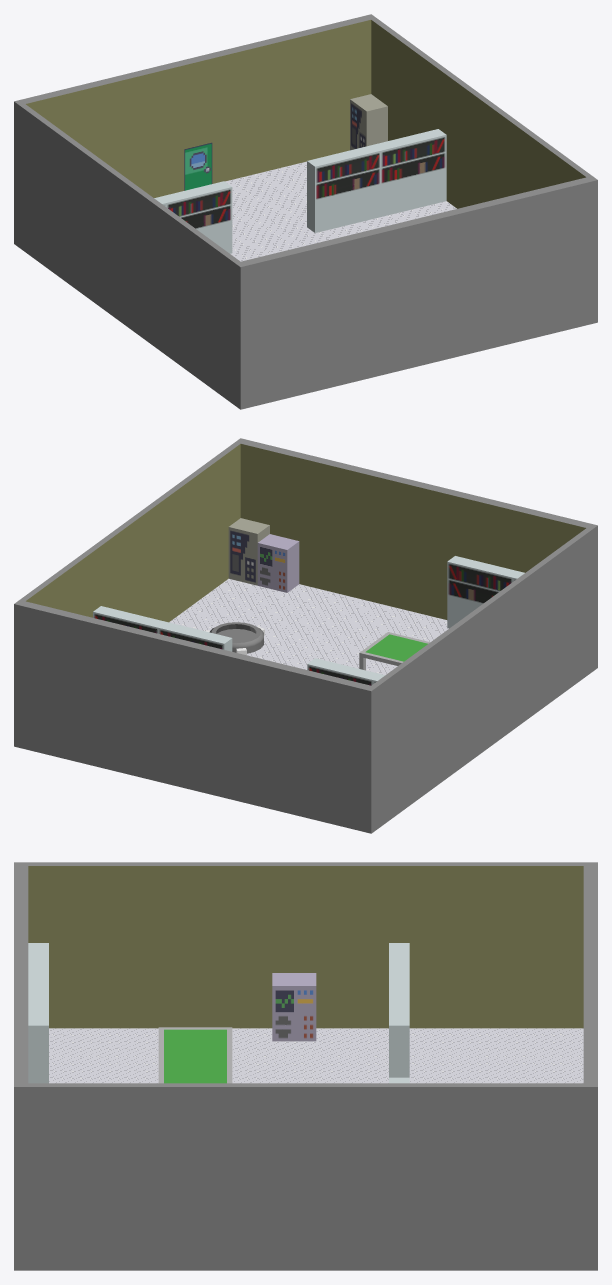
File: ptlabind.FBX
3 renders of one model, top to bottom at view 1: azimuth 30°, elevation 25°; view 2: azimuth 150°, elevation 25°; view 3: azimuth 270°, elevation 25°, orthographic. The views are drawn at different scales.
Visible parts, largest first — view 1: Box001, bookcase (×3), machine2; view 2: Box001, bookcase (×4), machine1, machine2, table1, Brokenmachine; view 3: Box001, bookcase (×4), table1, machine1.
Part boxes in pixels (x1,y1,x2,y2): Box001: [14, 14, 597, 409]; bookcase (×3): [158, 129, 446, 253]; machine2: [350, 94, 387, 150]; Box001: [14, 438, 597, 833]; bookcase (×4): [93, 556, 520, 685]; machine1: [257, 534, 299, 592]; machine2: [228, 518, 269, 585]; table1: [359, 632, 429, 670]; Brokenmachine: [206, 622, 264, 655]; Box001: [14, 862, 597, 1270]; bookcase (×4): [28, 943, 409, 1083]; table1: [158, 1027, 232, 1083]; machine1: [272, 973, 316, 1041].
Size of the model in its own units: 567 by 216 by 622.
16 materials, 5 textured.
